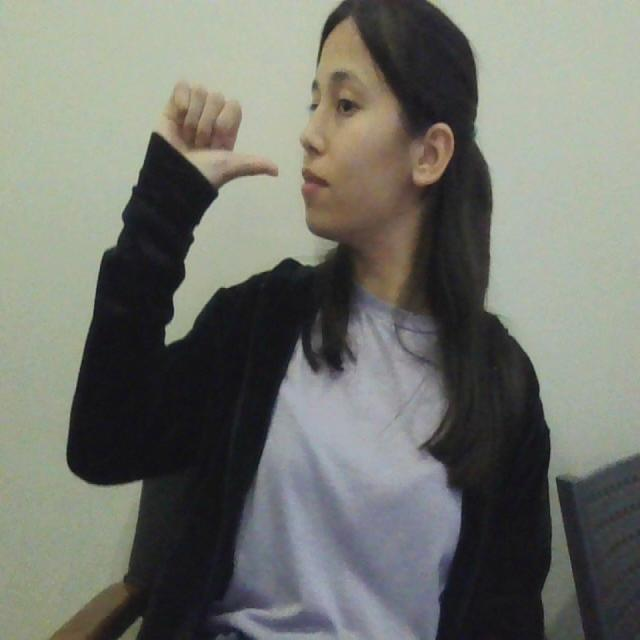icmek: (137, 71, 325, 210)
